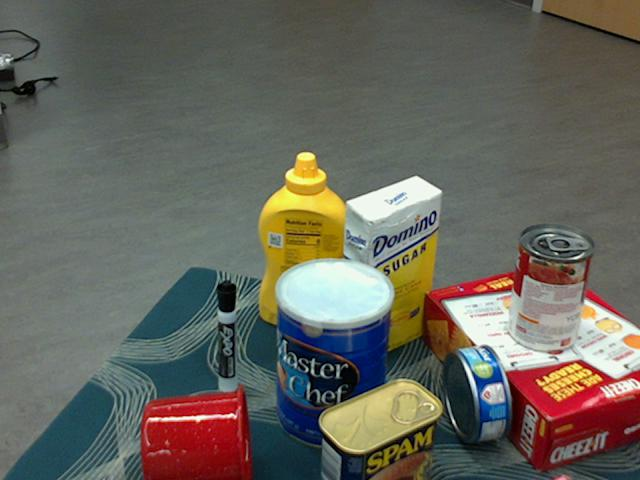cracker_box: (421, 264, 639, 467)
gelatin_box: (548, 474, 565, 479)
large_marker: (216, 279, 236, 392)
master_chef_can: (275, 258, 395, 451)
mug: (140, 384, 251, 479)
mustard_bottle: (258, 152, 351, 331)
potted_meat_can: (318, 379, 442, 479)
sugar_box: (337, 177, 443, 364)
tomato_soup_can: (507, 226, 594, 354)
tuna_fish_can: (443, 344, 512, 442)
